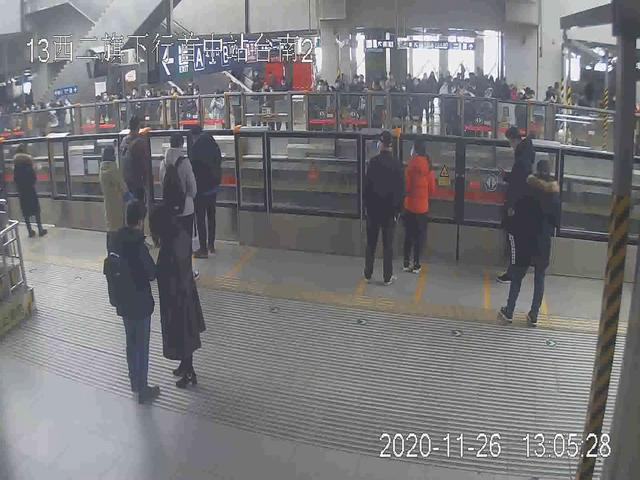person: (103, 201, 159, 406), (151, 208, 206, 390), (500, 160, 557, 327), (494, 121, 539, 280), (157, 134, 201, 276), (183, 124, 225, 251), (120, 118, 160, 249), (364, 129, 398, 280), (400, 142, 433, 275), (96, 145, 131, 268), (11, 145, 42, 238)
